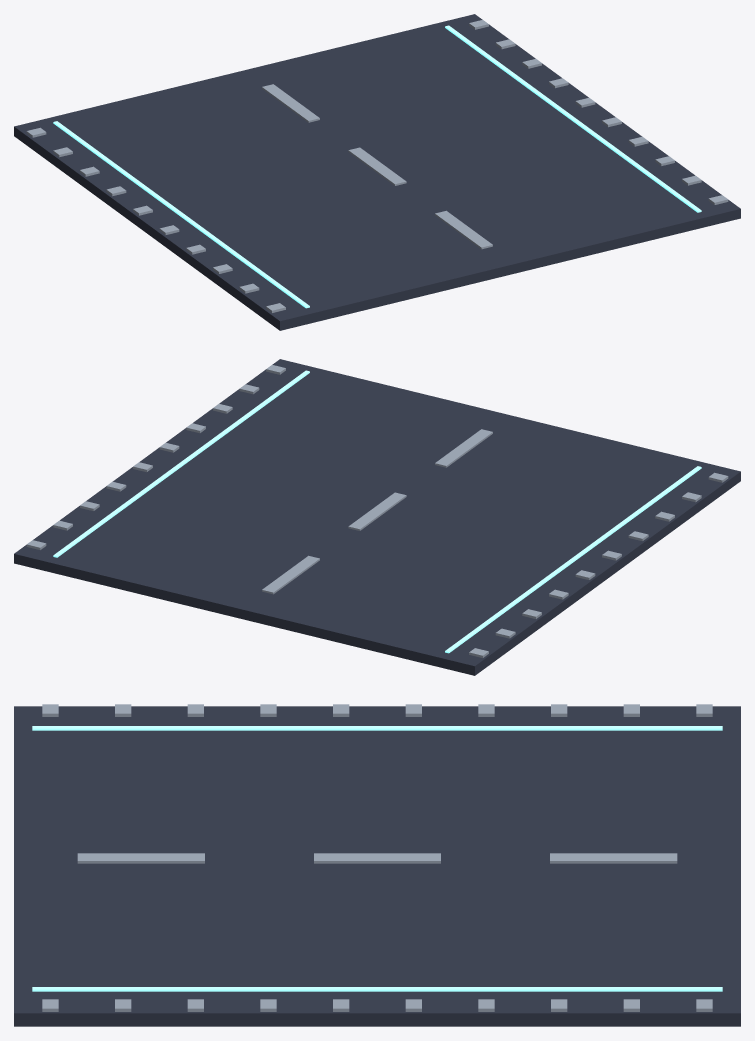
The model's file is neon-dispatch-marked-courier-lane__169.glb.
The picture shows the model from 3 angles, top to bottom: view 1: azimuth 30°, elevation 25°; view 2: azimuth 150°, elevation 25°; view 3: azimuth 270°, elevation 25°; orthographic projection. The views are drawn at different scales.
Visible parts, largest first — view 1: dark, metal, light; view 2: dark, metal, light; view 3: dark, metal, light.
Boxes of the visible parts, box(x1,y1,x2,y2) form: dark: box(14, 14, 740, 330); metal: box(26, 20, 728, 312); light: box(53, 25, 701, 308); dark: box(14, 359, 740, 675); metal: box(26, 365, 728, 657); light: box(53, 370, 701, 653); dark: box(14, 706, 740, 1026); metal: box(42, 704, 712, 1011); light: box(32, 726, 722, 991).
Bounding box in the file's own units: 4 × 0.1 × 4.
